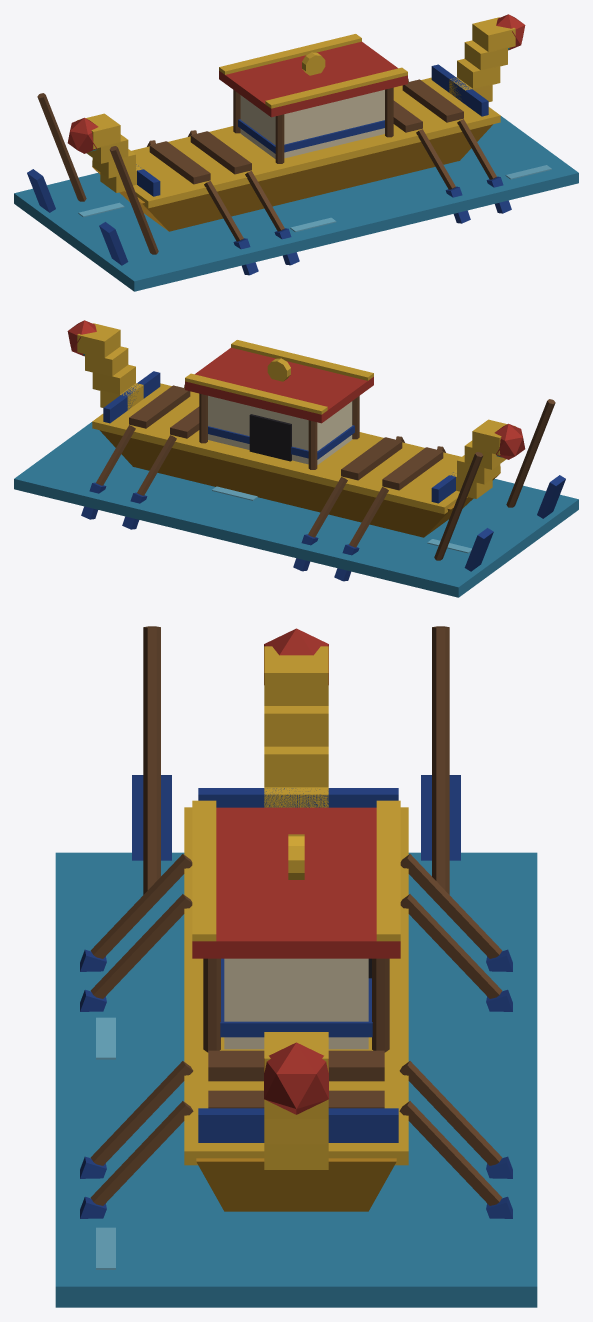
The model's file is Decor_PharaohPyramid_Barge.fbx.
The picture shows the model from 3 angles, top to bottom: view 1: azimuth 30°, elevation 25°; view 2: azimuth 150°, elevation 25°; view 3: azimuth 270°, elevation 25°; orthographic projection. The views are drawn at different scales.
Parts seen in each view (by area): view 1: Barge_Body; view 2: Barge_Body; view 3: Barge_Body.
Boxes of the visible parts, x1,y1,x2,y2 form: Barge_Body: [14, 14, 578, 291]; Barge_Body: [14, 320, 578, 597]; Barge_Body: [55, 626, 537, 1307].
Size of the model in its own units: 26.21 by 8.34 by 12.
